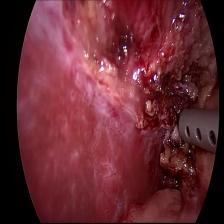Irrigator: (175, 102, 224, 154)
